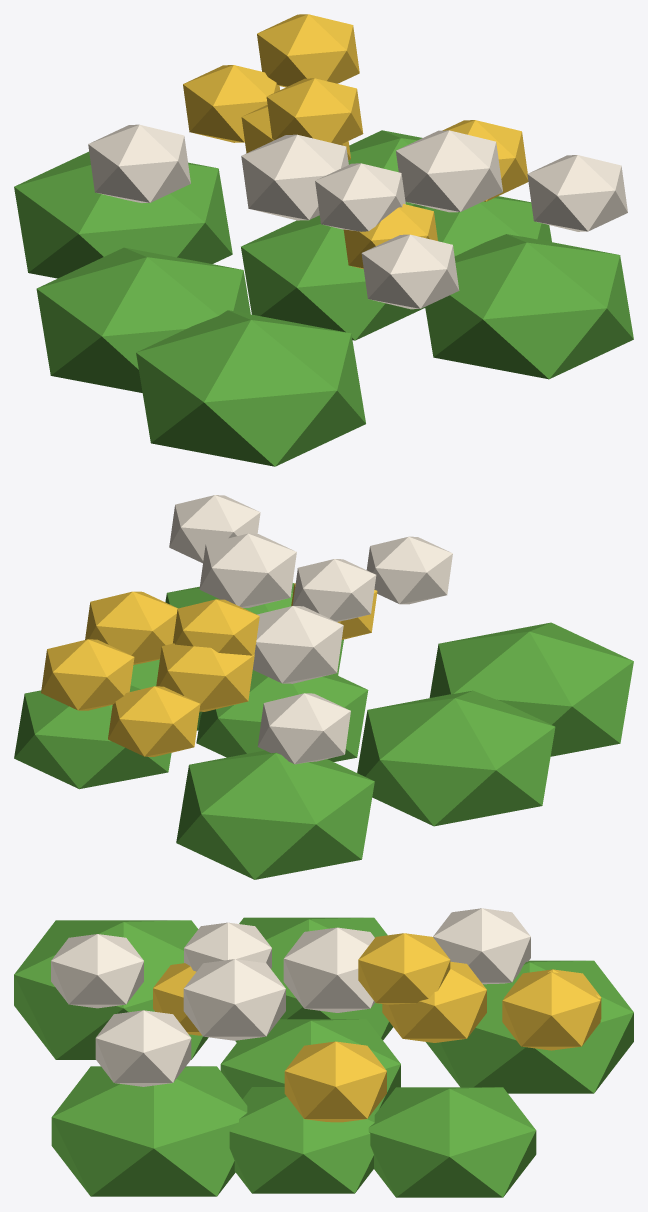
The model's file is wildflowers.glb.
3 renders of one model, top to bottom at view 1: azimuth 30°, elevation 25°; view 2: azimuth 150°, elevation 25°; view 3: azimuth 270°, elevation 25°, orthographic. The views are drawn at different scales.
Parts seen in each view (by area): view 1: leaves1, flower_white, flower_yellow; view 2: leaves1, flower_white, flower_yellow; view 3: leaves1, flower_white, flower_yellow.
Part boxes in pixels (bbox=[...]): leaves1: bbox=[14, 130, 633, 466]; flower_white: bbox=[88, 124, 627, 309]; flower_yellow: bbox=[183, 14, 528, 268]; leaves1: bbox=[14, 583, 633, 879]; flower_white: bbox=[169, 495, 452, 764]; flower_yellow: bbox=[41, 583, 377, 756]; leaves1: bbox=[14, 917, 633, 1197]; flower_white: bbox=[51, 908, 530, 1086]; flower_yellow: bbox=[153, 933, 601, 1122].
Size of the model in its own units: 0.7818 by 0.3369 by 0.8427.
